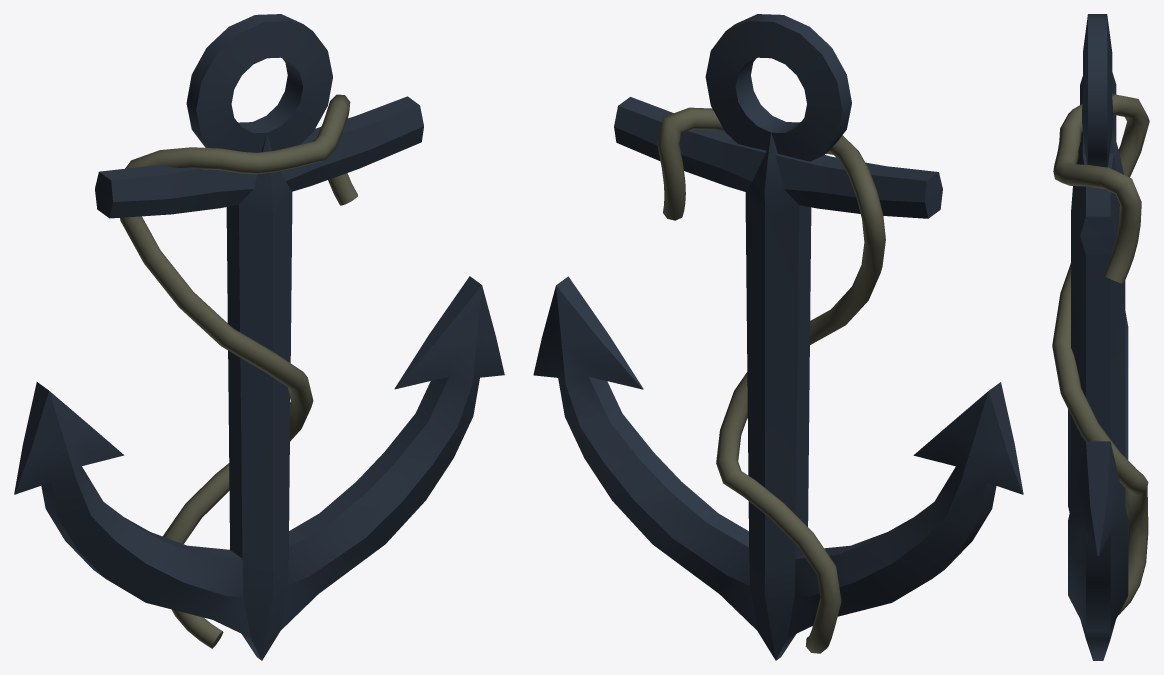
Rendered from 2water_7.fbx.
3 renders of one model, left to right at view 1: azimuth 30°, elevation 25°; view 2: azimuth 150°, elevation 25°; view 3: azimuth 270°, elevation 25°, orthographic.
Parts seen in each view (by area): view 1: 7; view 2: 7; view 3: 7.
Part boxes in pixels (box(x1,y1,x2,y2)): 7: box(14, 14, 504, 660); 7: box(533, 14, 1023, 660); 7: box(1052, 14, 1149, 660).
Bounding box in the file's own units: 79.51 × 13.75 × 99.36.
1 material, 1 textured.
